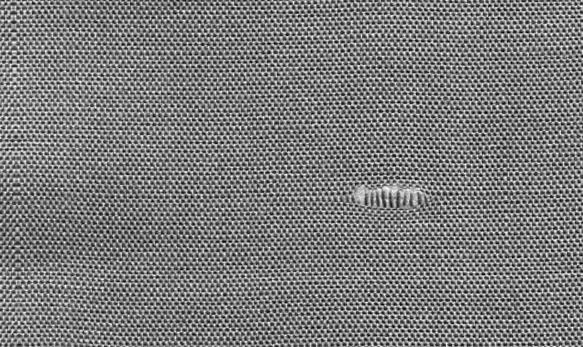slub: (335, 180, 447, 217)
